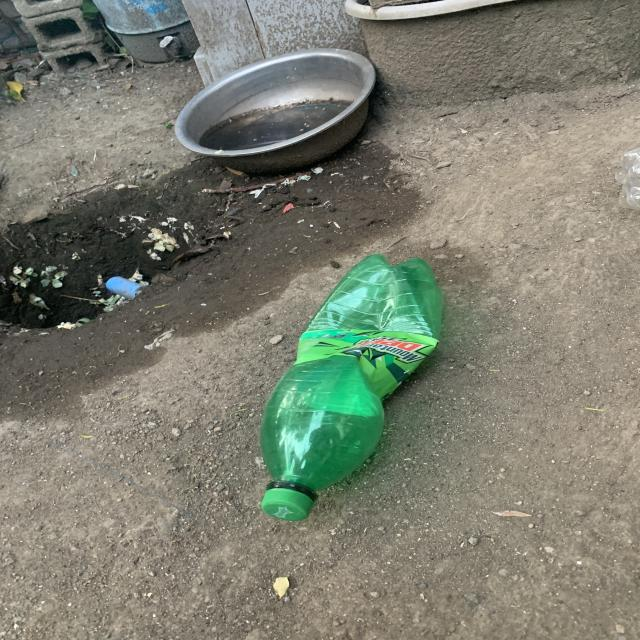Bottle: (260, 254, 443, 521)
